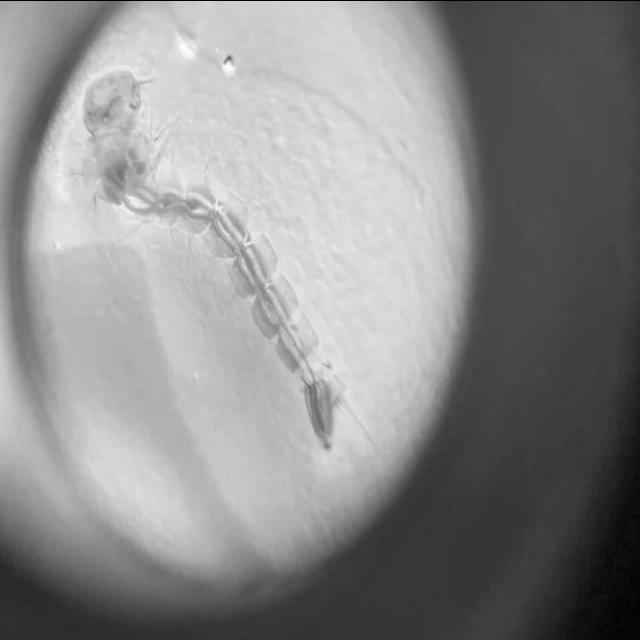larvas: (81, 75, 336, 450)
